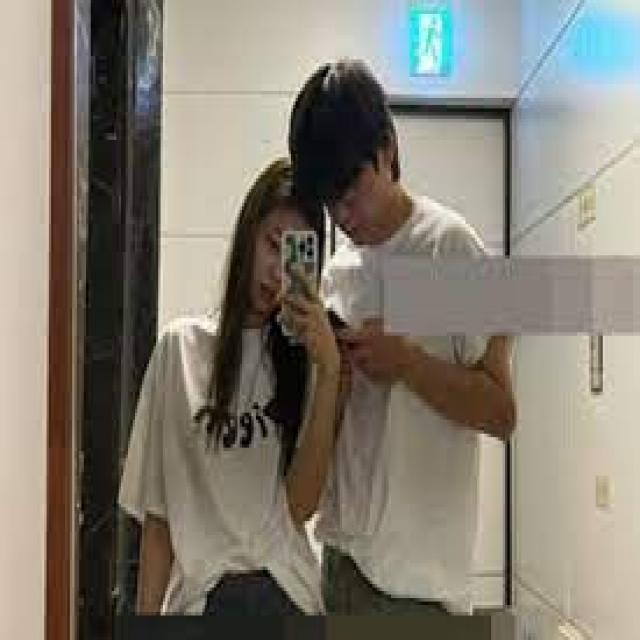Phone: (279, 226, 320, 340)
